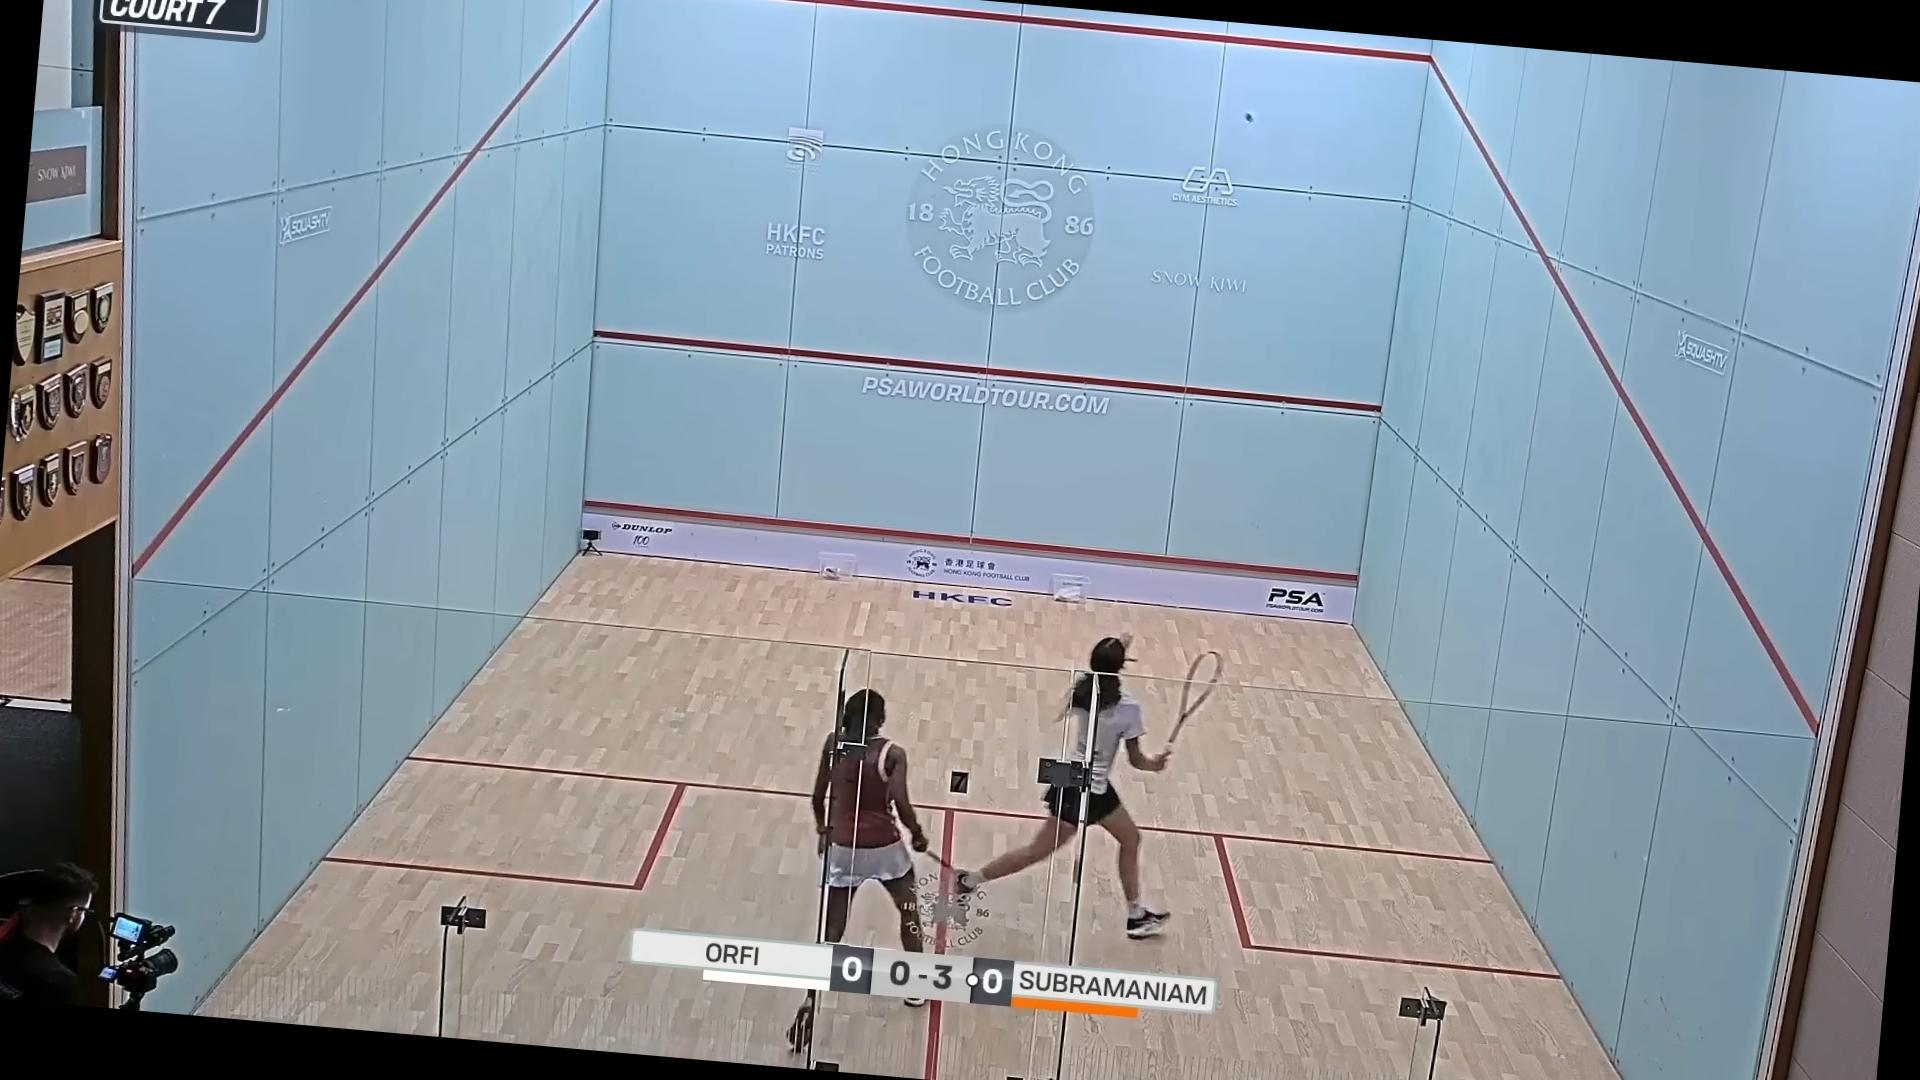Squash-Ball: (1232, 102, 1269, 140)
